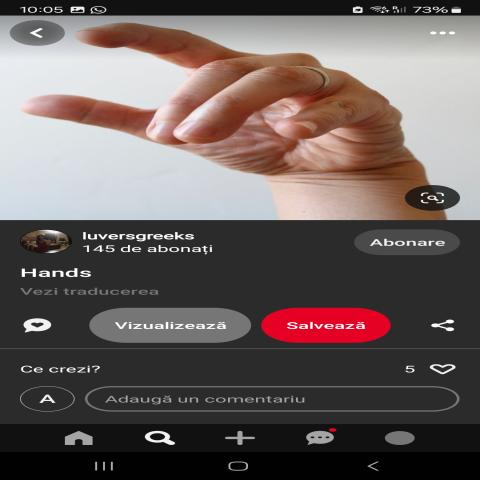hands: (24, 21, 448, 189)
